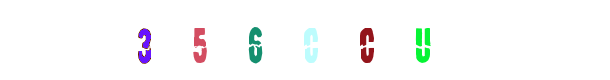3: (105, 0, 185, 80)
5: (166, 0, 246, 80)
6: (218, 0, 298, 80)
C: (265, 0, 345, 80), (305, 0, 385, 80)
U: (382, 0, 462, 80)
